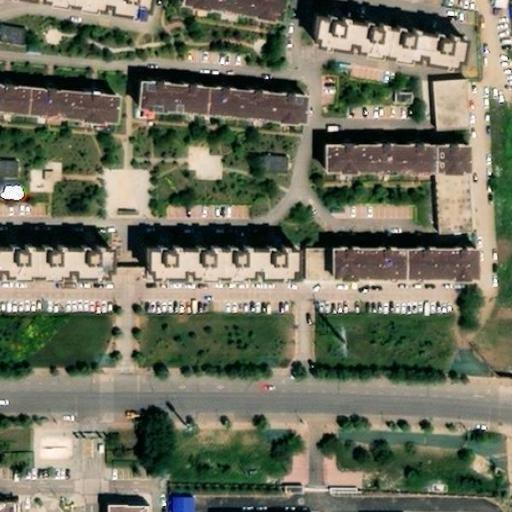building: (319, 21, 478, 79), (141, 84, 309, 125), (146, 256, 303, 294), (0, 83, 126, 129), (333, 257, 479, 291), (0, 257, 120, 295), (332, 156, 478, 187), (0, 155, 19, 196), (308, 257, 333, 288), (255, 149, 286, 171), (120, 260, 146, 283), (100, 499, 146, 512), (0, 19, 26, 42), (167, 491, 192, 512), (389, 85, 411, 103)
